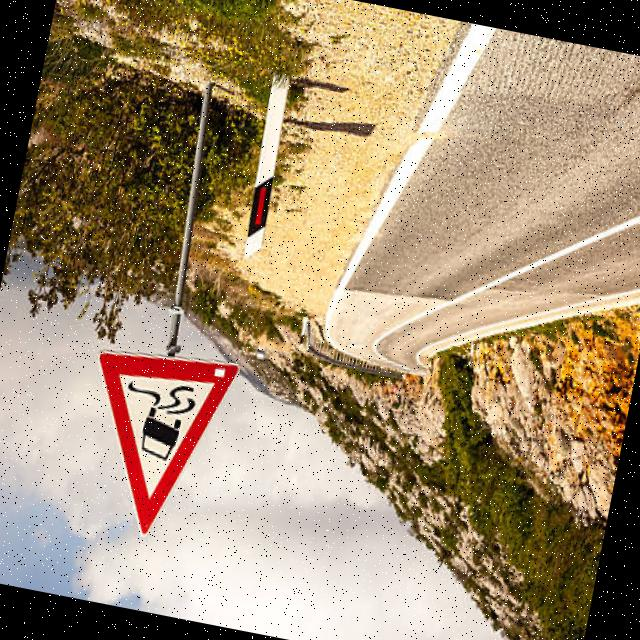round_about: (59, 329, 250, 550)
